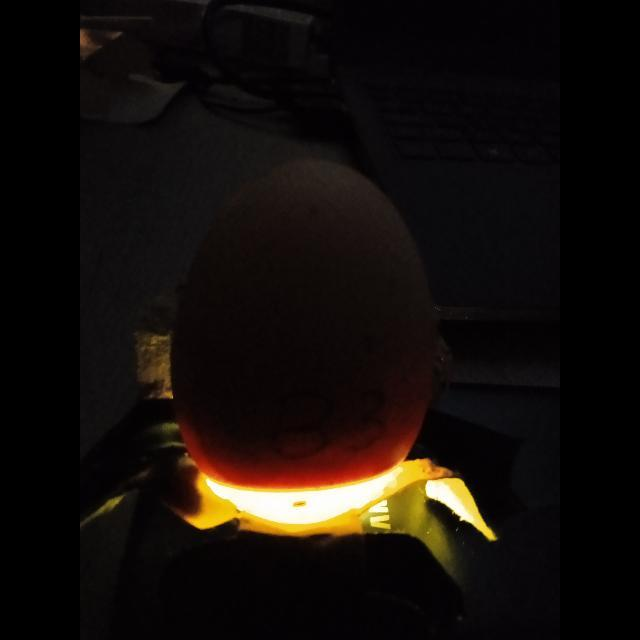Fertile: (165, 157, 435, 521)
